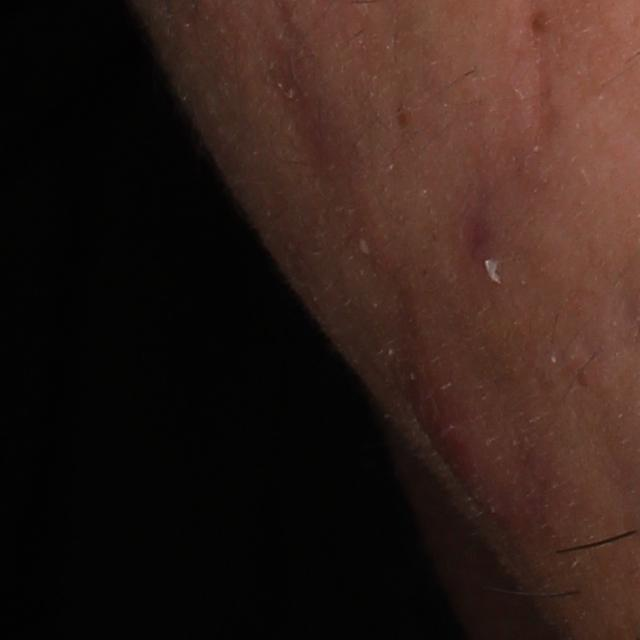atrophic_scar: (513, 18, 572, 148)
